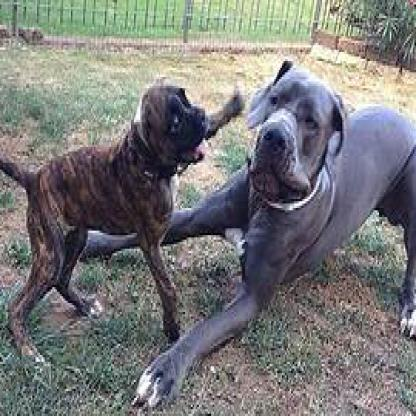dog: (129, 56, 415, 415), (0, 79, 247, 362)
